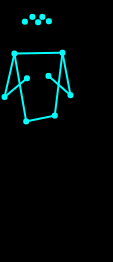tree: (1, 8, 79, 153)
